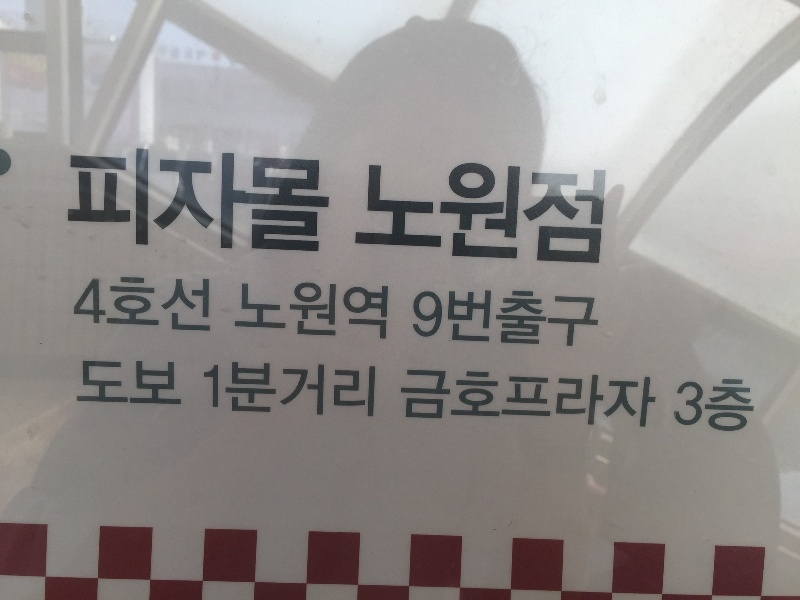text: (65, 141, 80, 266), (81, 141, 96, 266), (97, 141, 112, 266), (113, 141, 128, 266), (129, 141, 144, 266), (145, 141, 160, 266), (161, 141, 176, 266), (177, 141, 192, 266), (193, 141, 208, 266), (209, 141, 224, 266), (225, 141, 240, 266), (241, 141, 256, 266), (257, 141, 272, 266), (273, 141, 288, 266), (289, 141, 304, 266), (305, 141, 320, 266), (353, 150, 368, 275), (369, 150, 384, 275), (385, 150, 400, 275), (401, 150, 416, 275), (417, 150, 432, 275), (433, 150, 448, 275), (449, 150, 464, 275), (465, 150, 480, 275), (481, 150, 496, 275), (497, 150, 512, 275), (513, 150, 528, 275), (529, 150, 544, 275), (545, 150, 560, 275), (561, 150, 576, 275), (577, 150, 592, 275), (593, 150, 608, 275), (321, 141, 334, 266), (65, 268, 80, 345), (81, 268, 96, 345), (97, 268, 112, 345), (113, 268, 128, 345), (129, 268, 144, 345), (145, 268, 160, 345), (161, 268, 176, 345), (177, 268, 192, 345), (193, 268, 208, 345), (209, 357, 224, 434), (225, 357, 240, 434), (241, 357, 256, 434), (257, 357, 272, 434), (273, 357, 288, 434), (289, 357, 304, 434), (305, 357, 320, 434), (321, 357, 336, 434), (337, 357, 352, 434), (353, 357, 368, 434), (401, 361, 416, 438), (417, 361, 432, 438), (433, 361, 448, 438), (449, 361, 464, 438), (465, 361, 480, 438), (481, 361, 496, 438), (497, 361, 512, 438), (513, 361, 528, 438), (529, 361, 544, 438), (545, 361, 560, 438), (561, 361, 576, 438), (577, 361, 592, 438), (593, 361, 608, 438), (609, 361, 624, 438), (625, 361, 640, 438), (641, 361, 656, 438), (241, 277, 256, 351), (257, 277, 272, 351), (273, 277, 288, 351), (289, 277, 304, 351), (305, 277, 320, 351), (321, 277, 336, 351), (337, 277, 352, 351), (353, 277, 368, 351), (369, 277, 384, 351), (417, 284, 432, 357), (433, 284, 448, 357), (449, 284, 464, 357), (465, 284, 480, 357), (481, 284, 496, 357), (497, 284, 512, 357), (513, 284, 528, 357), (529, 284, 544, 357), (545, 284, 560, 357), (561, 284, 576, 357), (577, 284, 592, 357), (673, 374, 688, 442), (689, 374, 704, 442), (705, 374, 720, 442), (721, 374, 736, 442), (737, 374, 752, 442), (209, 268, 222, 345), (81, 355, 96, 419), (97, 355, 112, 419), (113, 355, 128, 419), (129, 355, 144, 419), (145, 355, 160, 419), (161, 355, 176, 419), (403, 284, 416, 357), (369, 357, 381, 434), (609, 150, 616, 275), (197, 357, 208, 434), (593, 284, 604, 357), (231, 277, 240, 351), (177, 355, 187, 419), (385, 277, 393, 351), (753, 374, 760, 442), (73, 355, 80, 419), (657, 361, 662, 438), (396, 361, 400, 438), (669, 374, 672, 442), (62, 268, 64, 345), (63, 141, 64, 266)
